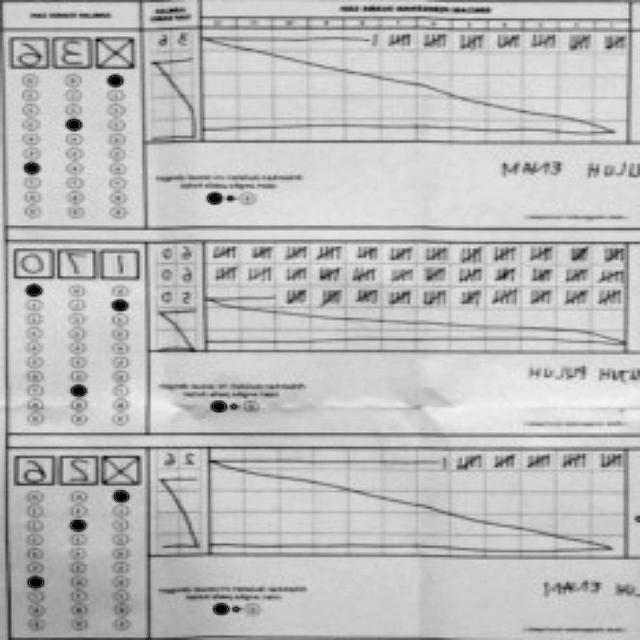Suara: (6, 31, 143, 74), (9, 242, 146, 285), (9, 448, 146, 490)
